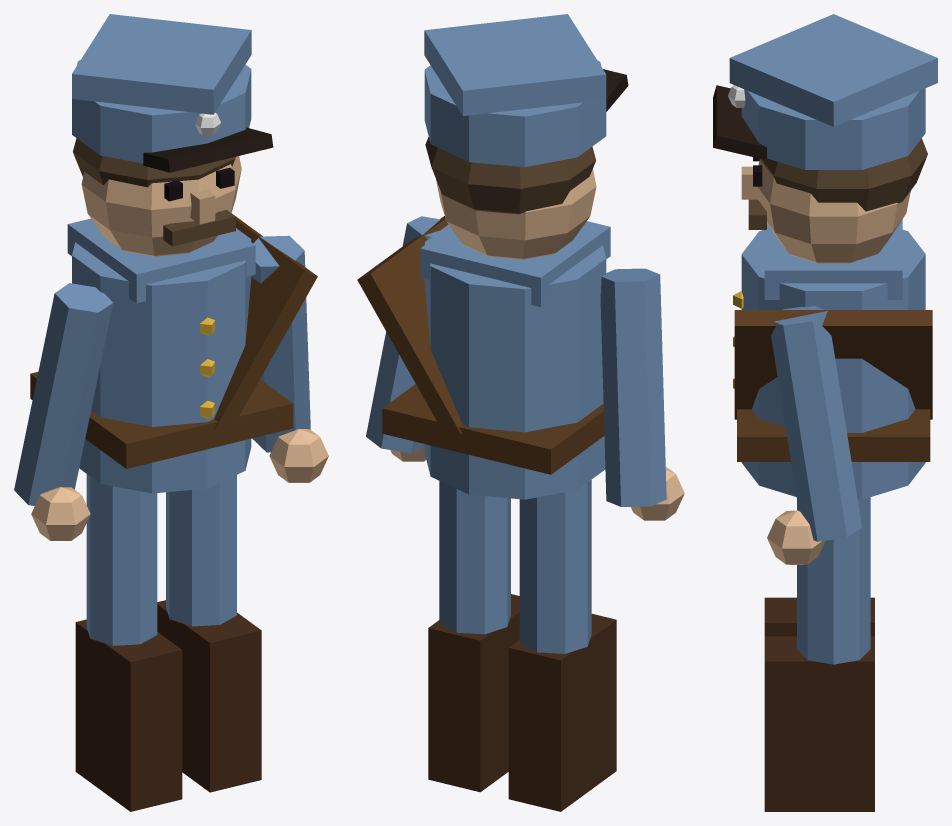
File: przechodzien_3.glb
3 views of the same model, side by side, from view 1: azimuth 30°, elevation 25°; view 2: azimuth 150°, elevation 25°; view 3: azimuth 270°, elevation 25° (orthographic).
Visible parts, largest first — view 1: cialo, noga_l, noga_p, reka_l, reka_p; view 2: cialo, noga_l, noga_p, reka_l, reka_p; view 3: cialo, noga_p, reka_p, noga_l.
Boxes of the visible parts, x1,y1,x2,y2 form: cialo: [30, 14, 317, 493]; noga_l: [75, 474, 182, 811]; noga_p: [157, 475, 261, 792]; reka_l: [14, 283, 112, 540]; reka_p: [251, 235, 328, 482]; cialo: [357, 14, 628, 499]; noga_l: [508, 480, 616, 811]; noga_p: [428, 481, 519, 792]; reka_l: [600, 268, 684, 520]; reka_p: [366, 216, 440, 461]; cialo: [713, 14, 937, 499]; noga_p: [764, 497, 874, 811]; reka_p: [767, 306, 861, 564]; noga_l: [764, 597, 874, 636].
Size of the model in its own units: 0.7126 by 1.73 by 0.4881.
